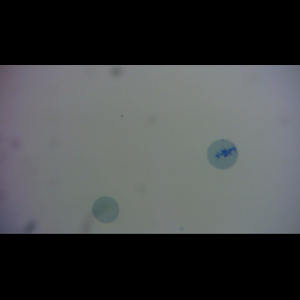aggregate reticulocyte: (205, 137, 240, 171)
erythrocyte: (91, 195, 121, 224)
